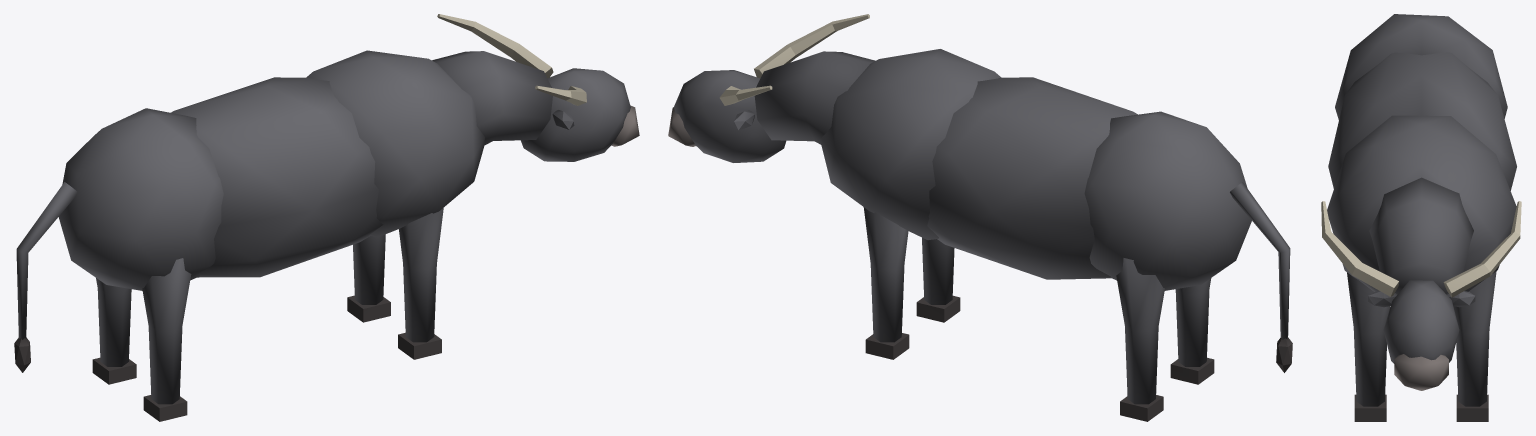
Rendered from buffalo_lod0.glb.
The picture shows the model from 3 angles, left to right: view 1: azimuth 30°, elevation 25°; view 2: azimuth 150°, elevation 25°; view 3: azimuth 270°, elevation 25°; orthographic projection.
Visible parts, largest first — view 1: buffalo_lod0; view 2: buffalo_lod0; view 3: buffalo_lod0.
Part boxes in pixels (bbox=[...]): buffalo_lod0: bbox=[14, 14, 639, 421]; buffalo_lod0: bbox=[668, 14, 1292, 421]; buffalo_lod0: bbox=[1321, 14, 1521, 421].
Bounding box in the file's own units: 3.8 × 1.64 × 1.06.
